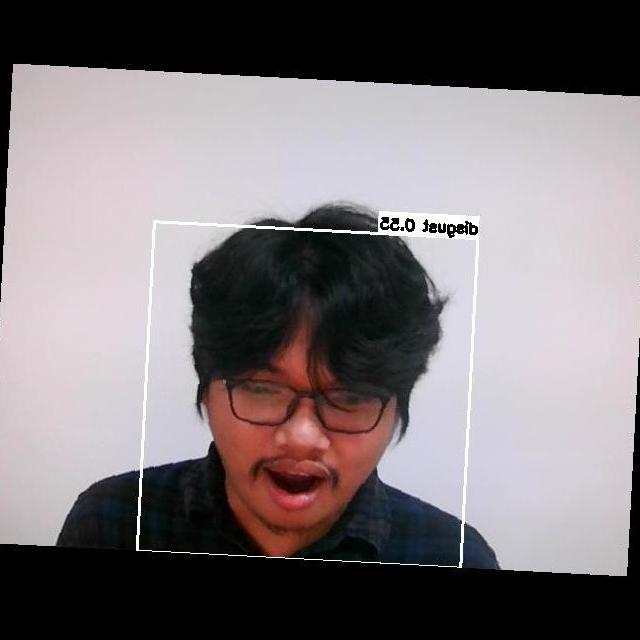Surprised: (202, 335, 405, 554)
